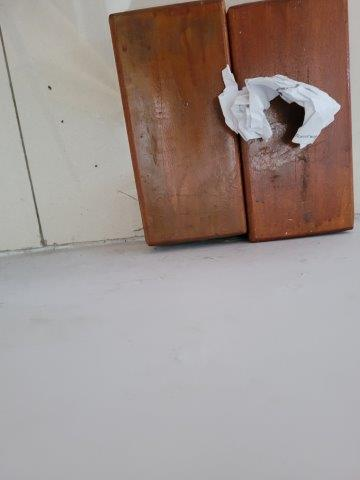kertas: (212, 65, 343, 155)
